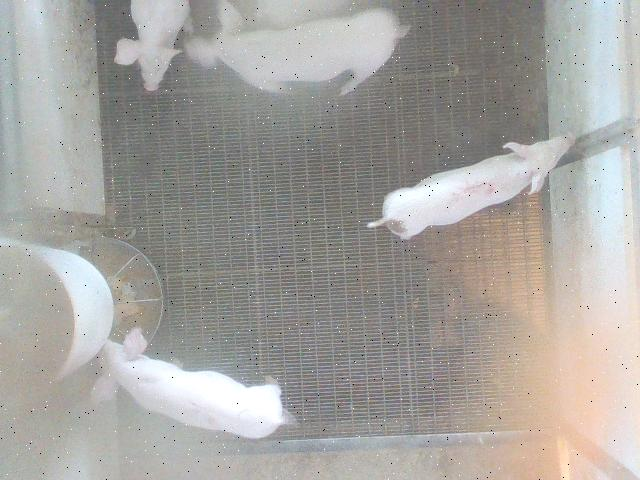pig-5: (368, 132, 574, 239)
